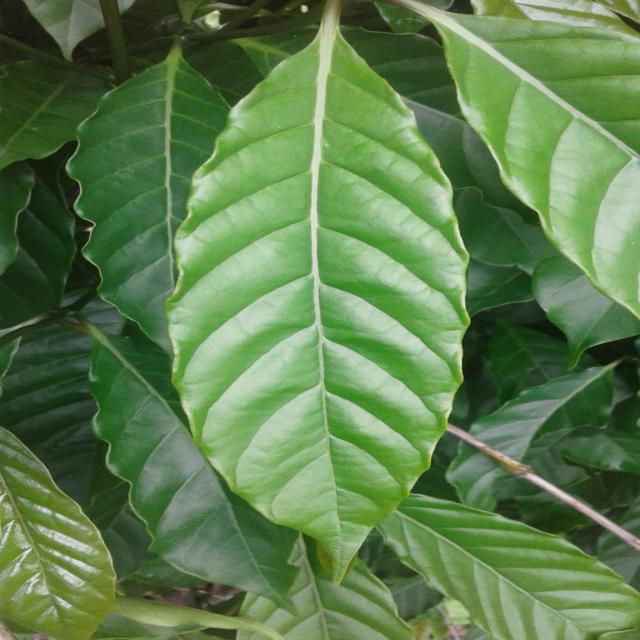Sanas: (167, 38, 469, 581)
